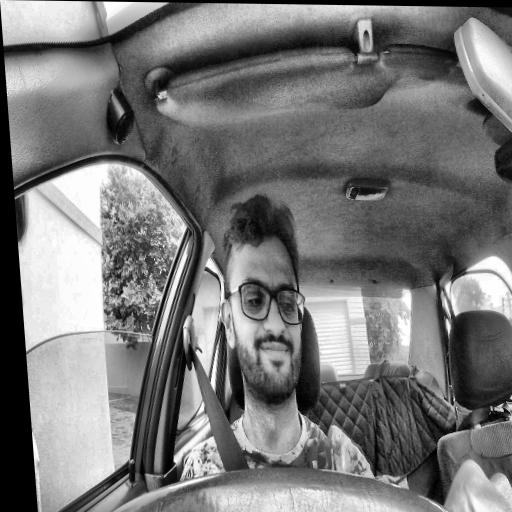awake: (212, 192, 314, 407)
